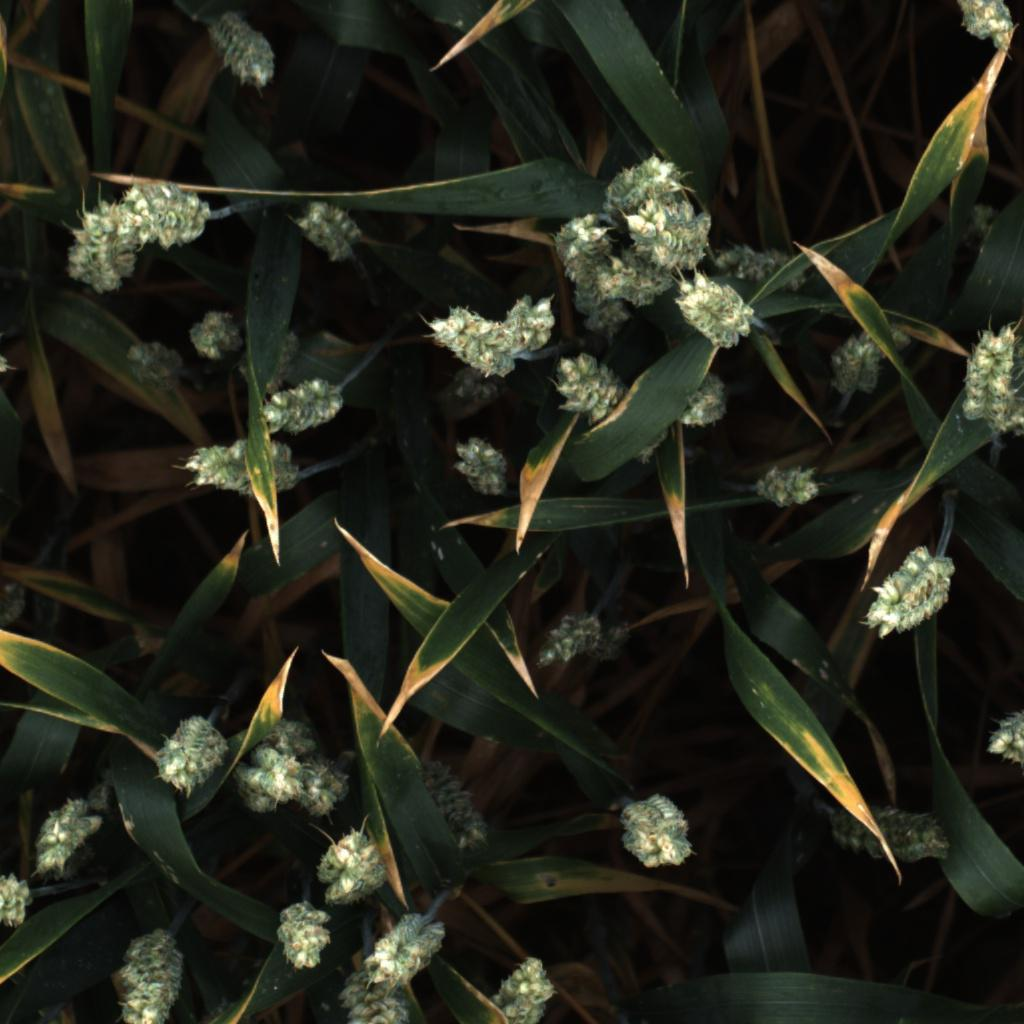0-0: (860, 537, 959, 645), (232, 714, 326, 816), (551, 208, 626, 330), (110, 923, 193, 1024), (955, 317, 1024, 434), (619, 194, 725, 270), (175, 434, 300, 498), (61, 197, 140, 297), (826, 800, 952, 861), (422, 301, 516, 380), (114, 177, 220, 247), (613, 790, 701, 874), (665, 273, 753, 354), (353, 916, 449, 990), (547, 345, 633, 426), (32, 785, 102, 883), (149, 709, 226, 795), (422, 754, 490, 849), (314, 826, 389, 906), (204, 12, 278, 91), (597, 150, 685, 216), (495, 289, 566, 370), (289, 191, 365, 266), (284, 745, 359, 817), (266, 901, 339, 974), (257, 375, 346, 434), (587, 250, 672, 311), (488, 955, 559, 1024), (446, 428, 513, 501), (666, 367, 741, 430), (529, 608, 599, 673), (823, 326, 886, 398), (715, 242, 805, 291), (443, 355, 521, 408), (185, 303, 249, 367), (751, 461, 824, 512), (338, 985, 432, 1024), (955, 0, 1017, 55), (978, 692, 1024, 766), (123, 336, 184, 391), (959, 200, 1004, 257), (0, 864, 34, 933)
